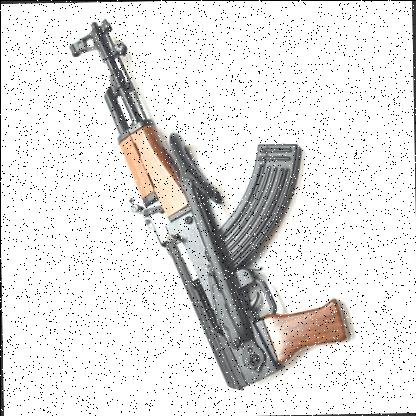rifle: (60, 21, 365, 402)
